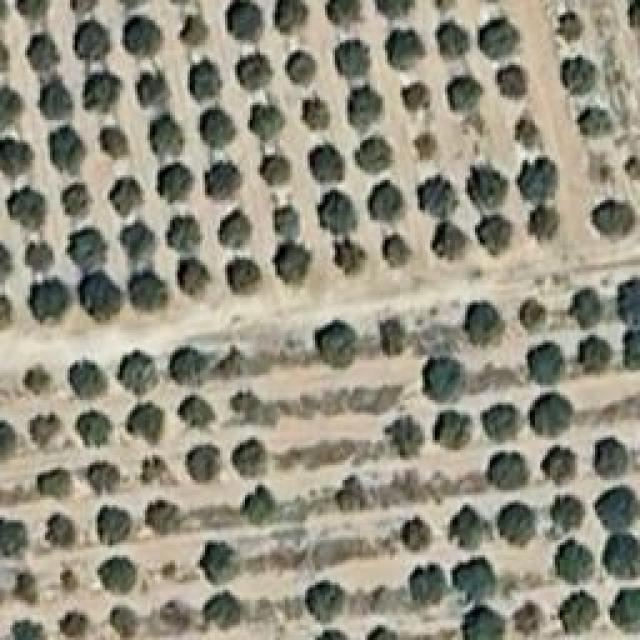Tree: (510, 158, 561, 204), (423, 355, 464, 404), (318, 322, 362, 367), (595, 485, 640, 529), (475, 210, 518, 256), (590, 198, 636, 240), (300, 580, 348, 620), (350, 88, 393, 131), (588, 435, 631, 478), (83, 273, 124, 317), (50, 128, 91, 171), (448, 510, 489, 553), (485, 453, 528, 494), (320, 193, 364, 233), (460, 602, 507, 639), (8, 188, 49, 230), (333, 38, 373, 81), (555, 540, 599, 579), (580, 102, 617, 148), (548, 493, 587, 536), (565, 590, 603, 634), (408, 565, 452, 603), (447, 560, 492, 597), (560, 55, 601, 95), (465, 303, 504, 345), (533, 391, 571, 434), (495, 505, 538, 543), (30, 283, 70, 323), (128, 403, 168, 443), (480, 403, 520, 443), (98, 505, 136, 547), (208, 160, 245, 203), (227, 0, 263, 44), (465, 168, 505, 207), (125, 18, 164, 58), (118, 355, 158, 394), (418, 178, 459, 216), (74, 410, 116, 447), (433, 18, 469, 61), (385, 417, 419, 462), (200, 538, 239, 577), (248, 100, 288, 138), (530, 343, 566, 385), (175, 258, 213, 297), (170, 343, 207, 383), (185, 443, 225, 480), (68, 25, 110, 60), (575, 338, 610, 380), (70, 228, 109, 265), (368, 185, 404, 225), (335, 475, 371, 515), (610, 587, 640, 634), (435, 410, 471, 449), (388, 28, 423, 68), (480, 20, 520, 55), (98, 560, 139, 594), (25, 35, 62, 72), (273, 245, 310, 282), (398, 515, 435, 552), (128, 275, 166, 311), (118, 225, 154, 263), (153, 165, 191, 201), (145, 503, 183, 539), (85, 465, 124, 500), (527, 200, 561, 240), (381, 323, 414, 364), (188, 63, 224, 100), (430, 218, 466, 255), (200, 113, 237, 149), (310, 148, 345, 186), (540, 448, 575, 486), (510, 598, 544, 637), (607, 540, 640, 580), (353, 138, 389, 174), (68, 360, 106, 394), (330, 240, 366, 275), (178, 398, 213, 434), (240, 488, 274, 525), (40, 467, 77, 501), (238, 58, 273, 93), (285, 52, 320, 87), (448, 75, 483, 110), (165, 218, 201, 252), (150, 118, 184, 154), (235, 442, 272, 475), (85, 75, 120, 109), (7, 570, 41, 605), (383, 232, 419, 265), (205, 595, 242, 627), (42, 80, 75, 115), (3, 135, 34, 172), (570, 288, 601, 325), (227, 257, 261, 290), (112, 177, 145, 211), (140, 72, 172, 106), (555, 10, 587, 44), (300, 100, 332, 134), (260, 154, 294, 186), (20, 238, 55, 269), (0, 518, 28, 556), (277, 0, 309, 33), (180, 15, 213, 47), (617, 277, 640, 322), (48, 515, 78, 549), (515, 300, 551, 328), (325, 0, 362, 27), (0, 423, 22, 466), (58, 612, 91, 640), (100, 128, 130, 158), (400, 80, 431, 109), (273, 207, 299, 241), (0, 82, 20, 126), (498, 65, 526, 96), (223, 210, 247, 246), (620, 333, 640, 376), (60, 184, 87, 214), (25, 365, 52, 395), (33, 410, 60, 440), (140, 455, 170, 482), (414, 133, 444, 159), (12, 617, 45, 640), (110, 608, 139, 634), (15, 0, 52, 19), (60, 568, 87, 594), (362, 627, 415, 640), (377, 0, 409, 18), (322, 622, 350, 640), (623, 155, 640, 180), (65, 0, 102, 11)
